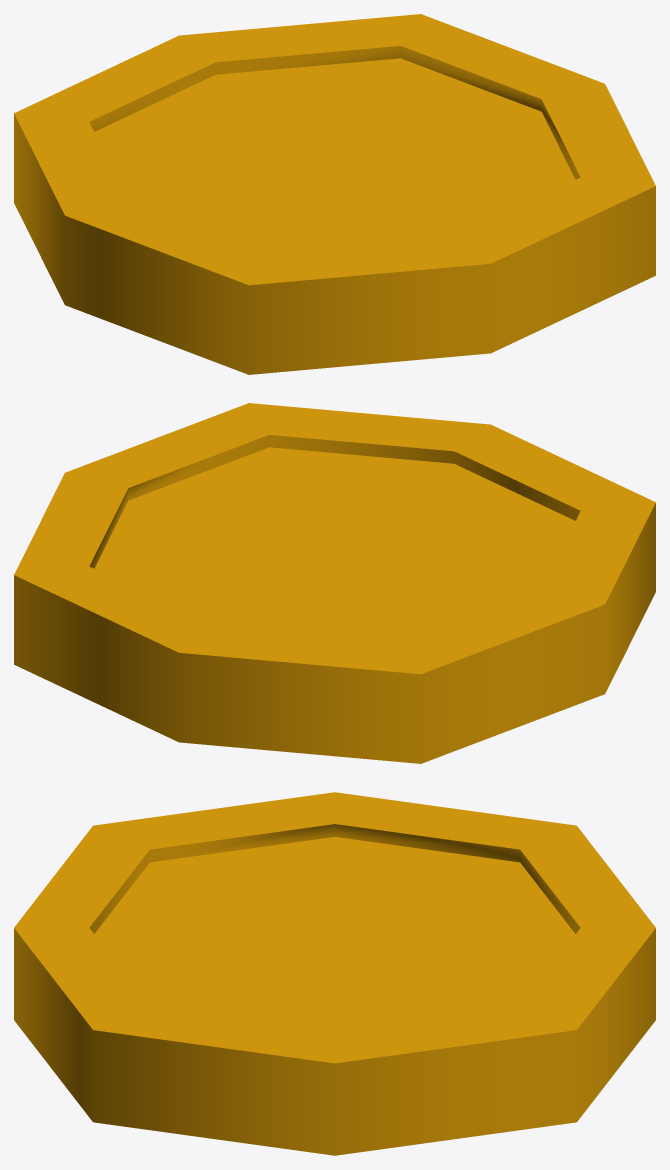
File: Coin.fbx
3 renders of one model, top to bottom at view 1: azimuth 30°, elevation 25°; view 2: azimuth 150°, elevation 25°; view 3: azimuth 270°, elevation 25°, orthographic. The views are drawn at different scales.
Visible parts, largest first — view 1: Coin; view 2: Coin; view 3: Coin.
Part boxes in pixels (left/top/right/bottom): Coin: left=14, top=14, right=655, bottom=374; Coin: left=14, top=403, right=655, bottom=763; Coin: left=14, top=792, right=655, bottom=1155.
Bounding box in the file's own units: 44.74 × 7.1 × 44.74.
